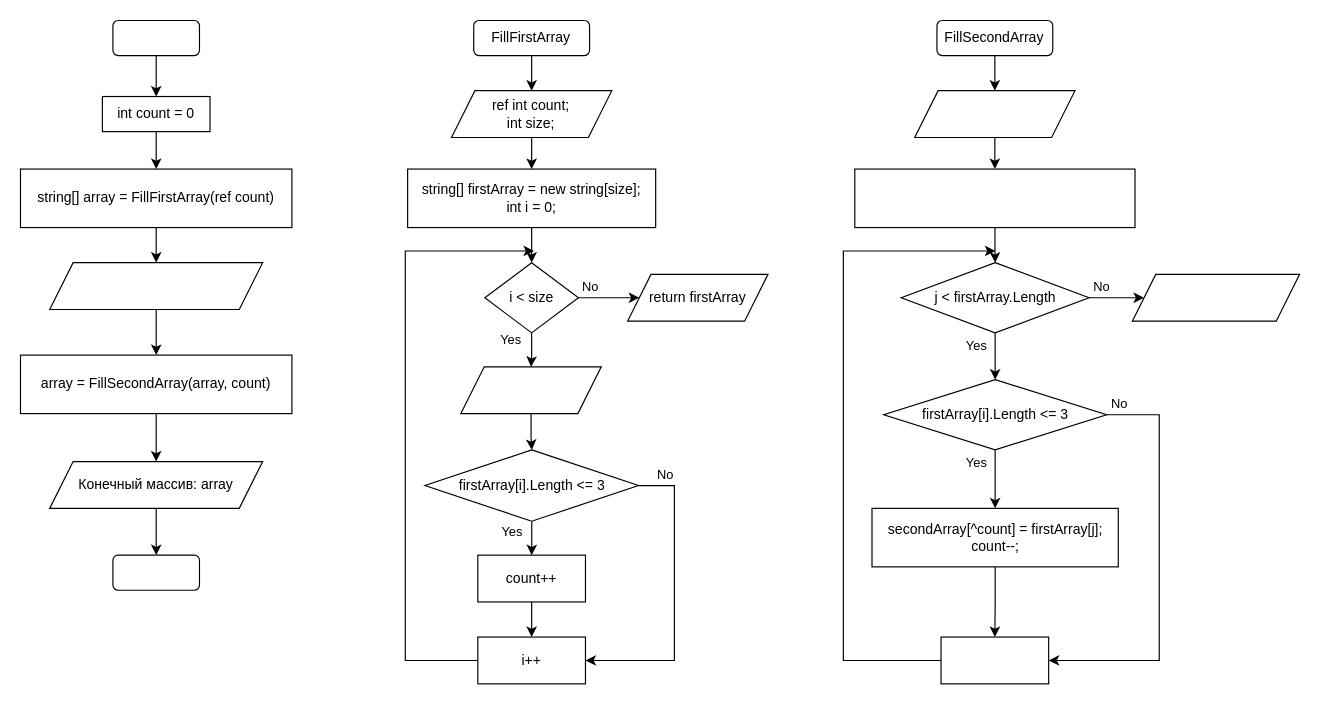
This 1321x704 diagram has some shape labels left out. The centre of each missing label's shape, as x and y in pixels:
End: (x=155, y=572)
firstArray[i]: (x=530, y=390)
j++: (x=994, y=660)
return secondArray: (x=1215, y=297)
Start: (x=155, y=37)
string[] firstArray; int count;: (x=994, y=113)
string[] secondArray = new string[count]; int j = 0;: (x=994, y=198)
Начальный массив: array: (x=156, y=285)
